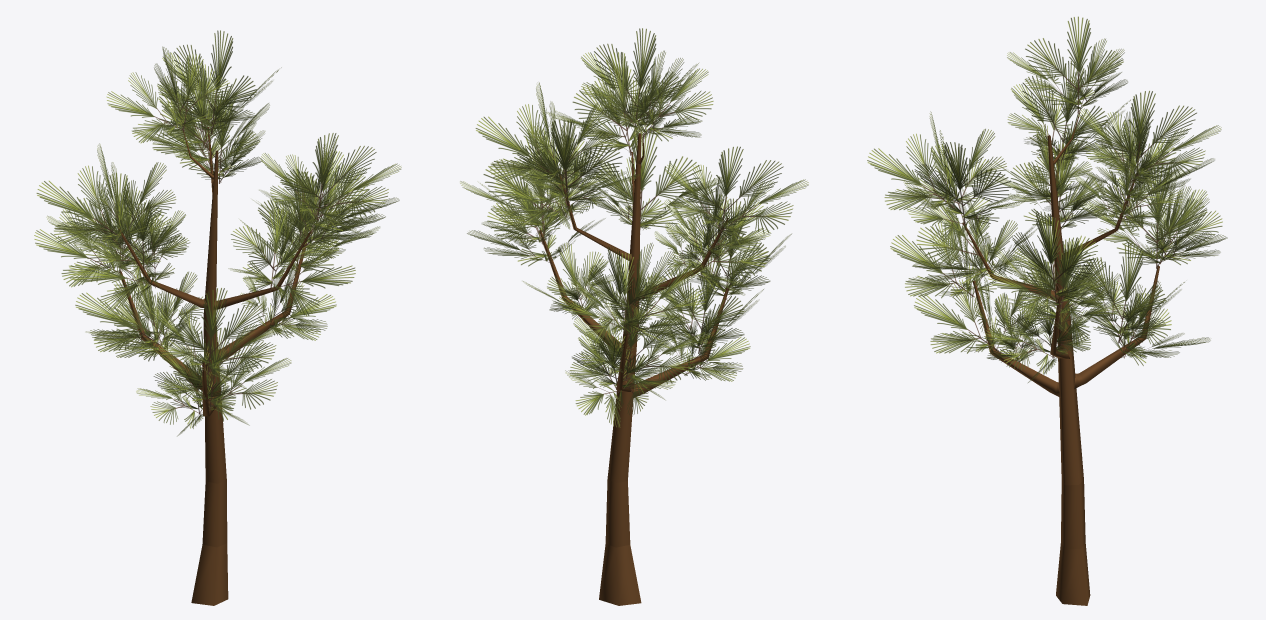
Rendered from Young_Pine_Tree_1.glb.
3 renders of one model, left to right at view 1: azimuth 30°, elevation 25°; view 2: azimuth 150°, elevation 25°; view 3: azimuth 270°, elevation 25°, orthographic.
Parts seen in each view (by area): view 1: Young_Pine_Tree_1; view 2: Young_Pine_Tree_1; view 3: Young_Pine_Tree_1.
Part boxes in pixels (x1,y1,x2,y2): Young_Pine_Tree_1: (34,30,401,605); Young_Pine_Tree_1: (460,28,808,605); Young_Pine_Tree_1: (867,16,1227,605).
Bounding box in the file's own units: 0.9838 × 1.47 × 0.9619.
2 materials, 2 textured.
